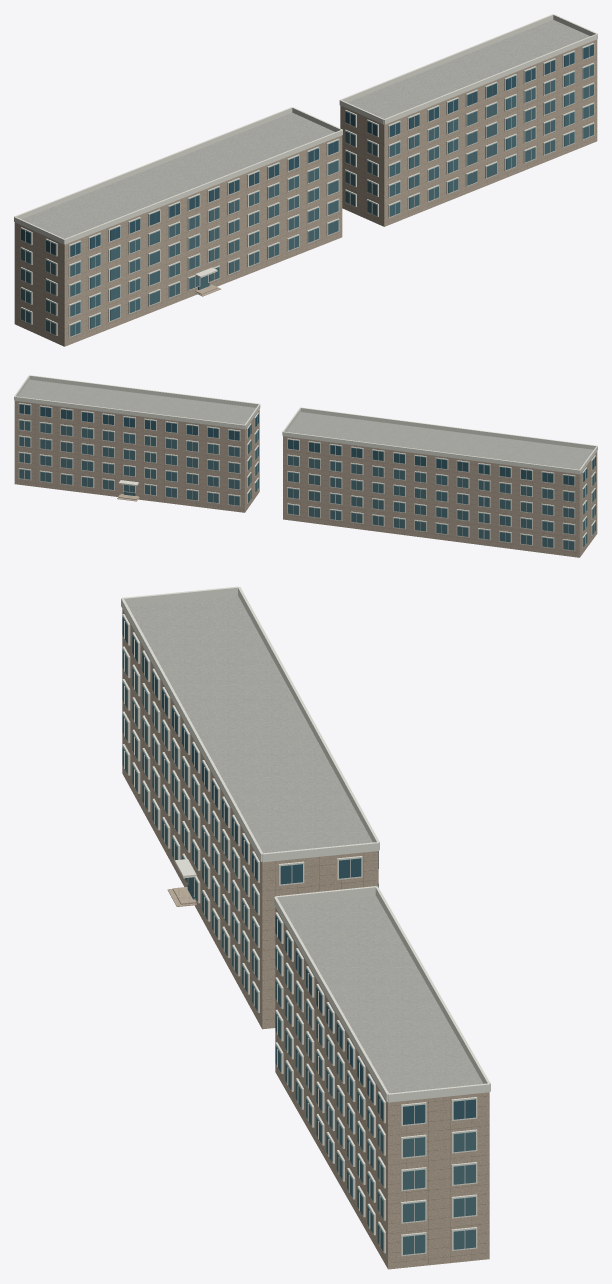
Rendered from chunk-n2-p0.glb.
3 views of the same model, one above another, from view 1: azimuth 30°, elevation 25°; view 2: azimuth 150°, elevation 25°; view 3: azimuth 270°, elevation 25° (orthographic). The views are drawn at different scales.
Parts seen in each view (by area): view 1: chunk-n2-p0; view 2: chunk-n2-p0; view 3: chunk-n2-p0.
Boxes of the visible parts, left/top/right/bottom form: chunk-n2-p0: left=14, top=14, right=597, bottom=346; chunk-n2-p0: left=14, top=375, right=597, bottom=557; chunk-n2-p0: left=121, top=586, right=490, bottom=1269.
Bounding box in the file's own units: 109 × 18.44 × 34.02.
5 materials, 2 textured.
